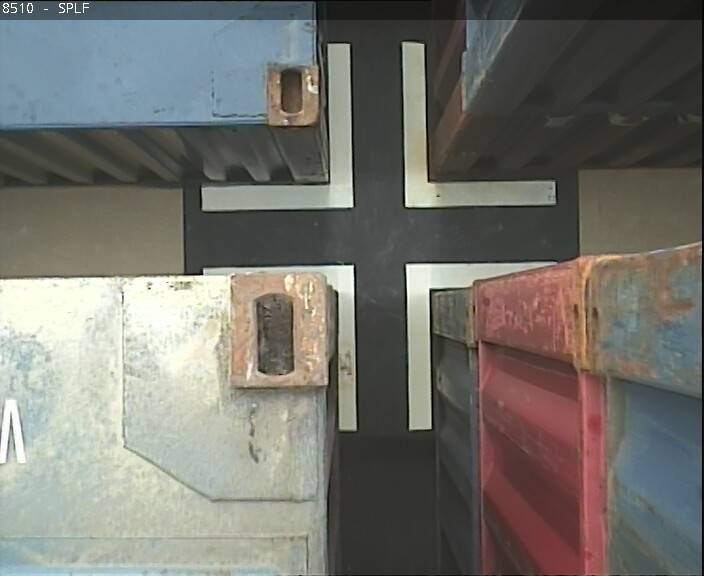groundmarker_1: (196, 43, 557, 213), (198, 262, 559, 432)
